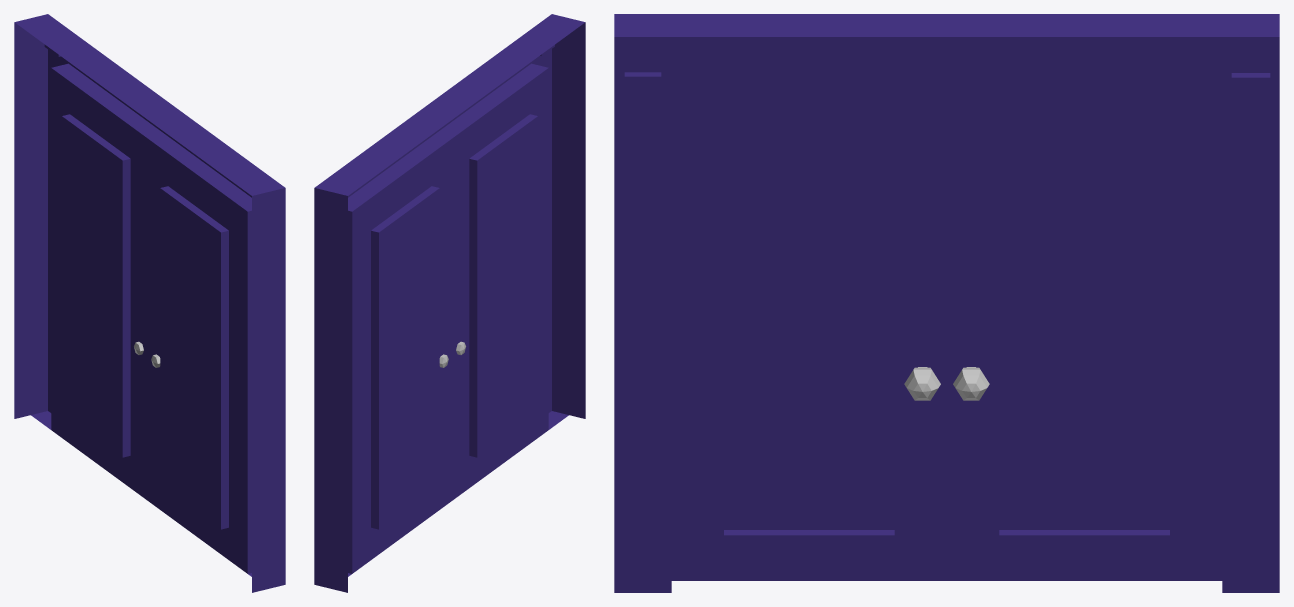
Rendered from big door.glb.
3 renders of one model, left to right at view 1: azimuth 30°, elevation 25°; view 2: azimuth 150°, elevation 25°; view 3: azimuth 270°, elevation 25°, orthographic. The views are drawn at different scales.
Parts seen in each view (by area): view 1: Big Door; view 2: Big Door; view 3: Big Door.
Boxes of the visible parts, x1,y1,x2,y2 form: Big Door: [14, 14, 285, 592]; Big Door: [314, 14, 585, 592]; Big Door: [614, 14, 1279, 592].
Size of the model in its own units: 1.21 by 10.9 by 11.82.
